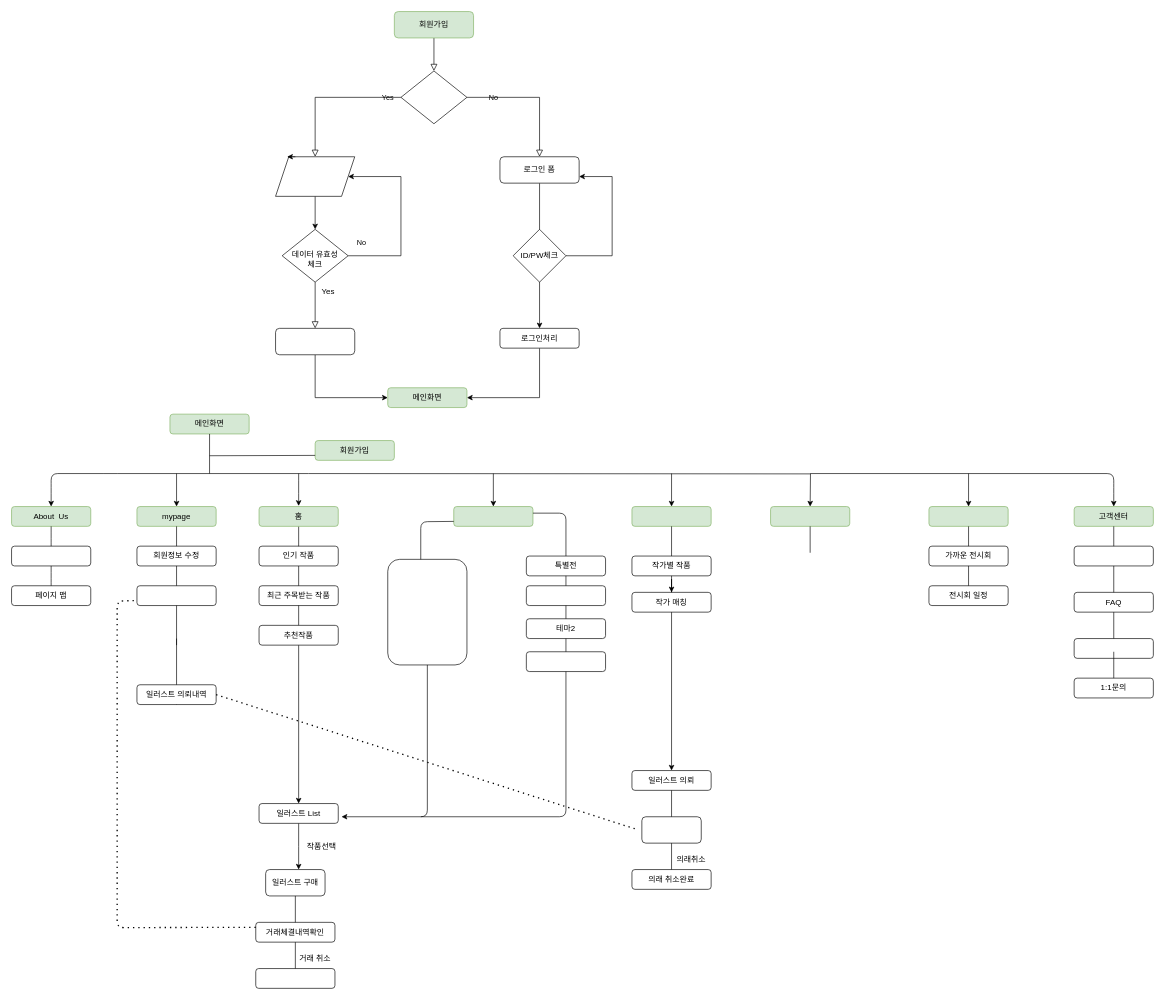
This 1165x1000 diagram has some shape labels left out. The box of each missing label's shape, as (x1, y1, x2, y2) in pixels:
1.일러스트레이션 2.그래픽 디자인 3.캐릭터디자인 4.웹툰 5.만화 6.게임 7.애니메이션 8.기타 등등: (387, 559, 467, 665)
Q&A: (1073, 638, 1153, 658)
공지사항: (1073, 545, 1153, 566)
구매/의뢰 취소완료: (255, 968, 335, 988)
오프라인 전시: (928, 506, 1008, 526)
온라인 전시: (453, 506, 533, 526)
이더리움 지갑: (770, 506, 850, 526)
일러스트 의래내역 확인: (641, 816, 701, 843)
일러스트 주문내역: (136, 585, 216, 606)
작가: (631, 506, 711, 526)
테마1: (526, 585, 606, 606)
테마3: (526, 651, 606, 672)
홈페이지 소개: (11, 545, 91, 566)
회원가입 성공 및 자동 로그인: (275, 328, 355, 355)
회원유무: (400, 70, 467, 124)
회원정보 입력: (275, 156, 355, 196)
